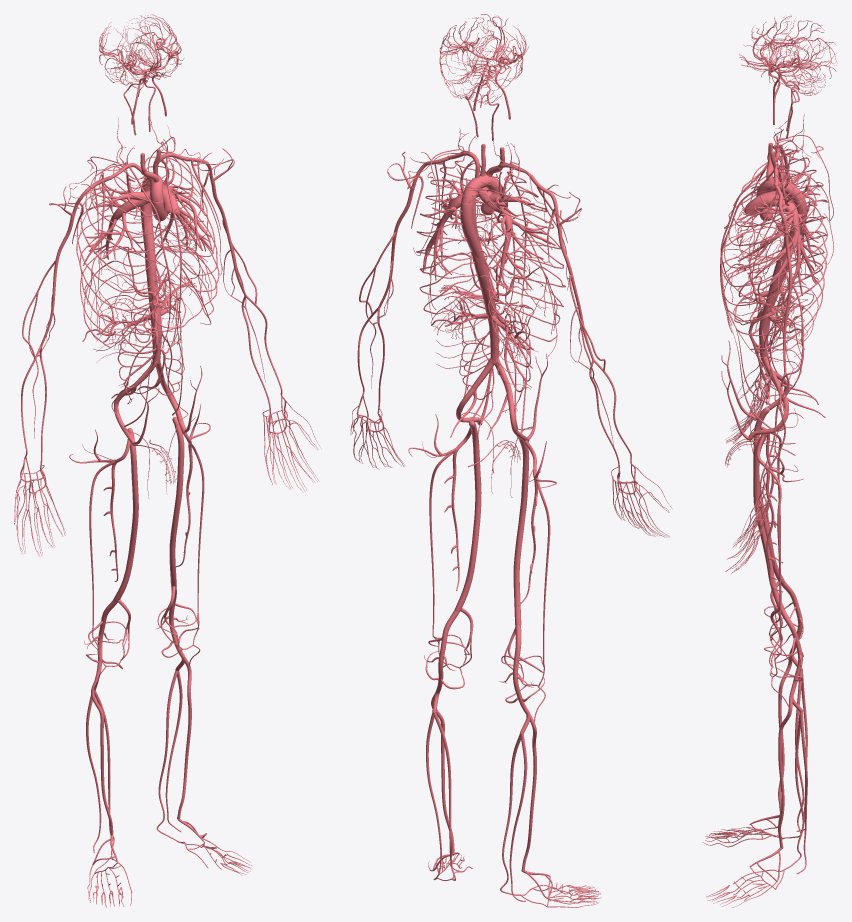
Rendered from male-arterial.glb.
3 views of the same model, side by side, from view 1: azimuth 30°, elevation 25°; view 2: azimuth 150°, elevation 25°; view 3: azimuth 270°, elevation 25° (orthographic). The views are drawn at different scales.
Visible parts, largest first — view 1: FJ1961, FJ1975, FJ2074, FJ2143, FJ3427, FJ2065; view 2: FJ1961, FJ1975, FJ2074, FJ3427, FJ2143; view 3: FJ1975, FJ1961, FJ2074, FJ2143, FJ2065, FJ1932, FJ2086, FJ2219, FJ3427, FJ2130, FJ2094, FJ2063 (+10 smaller).
Part boxes in pixels (x1=…): FJ1961: x1=76, y1=166, x2=166, y2=347; FJ1975: x1=140, y1=156, x2=219, y2=322; FJ2074: x1=169, y1=417, x2=184, y2=587; FJ2143: x1=113, y1=428, x2=138, y2=602; FJ3427: x1=140, y1=184, x2=160, y2=365; FJ2065: x1=177, y1=657, x2=191, y2=818; FJ1961: x1=468, y1=189, x2=565, y2=351; FJ1975: x1=416, y1=179, x2=503, y2=327; FJ2074: x1=455, y1=421, x2=481, y2=611; FJ3427: x1=460, y1=201, x2=498, y2=364; FJ2143: x1=513, y1=434, x2=529, y2=625; FJ1975: x1=721, y1=179, x2=827, y2=353; FJ1961: x1=723, y1=157, x2=827, y2=305; FJ2074: x1=753, y1=434, x2=784, y2=611; FJ2143: x1=753, y1=407, x2=784, y2=584; FJ2065: x1=778, y1=696, x2=792, y2=847; FJ1932: x1=759, y1=272, x2=785, y2=360; FJ2086: x1=781, y1=610, x2=802, y2=712; FJ2219: x1=783, y1=231, x2=792, y2=372; FJ3427: x1=760, y1=199, x2=807, y2=359; FJ2130: x1=778, y1=657, x2=792, y2=814; FJ2094: x1=756, y1=436, x2=782, y2=592; FJ2063: x1=766, y1=467, x2=781, y2=653.
Bounding box in the file's own units: 0.6489 × 1.7 × 0.245.
